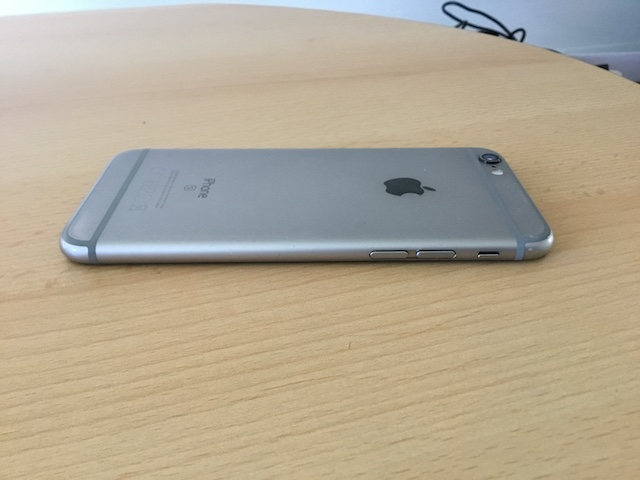phone: (57, 142, 558, 270)
